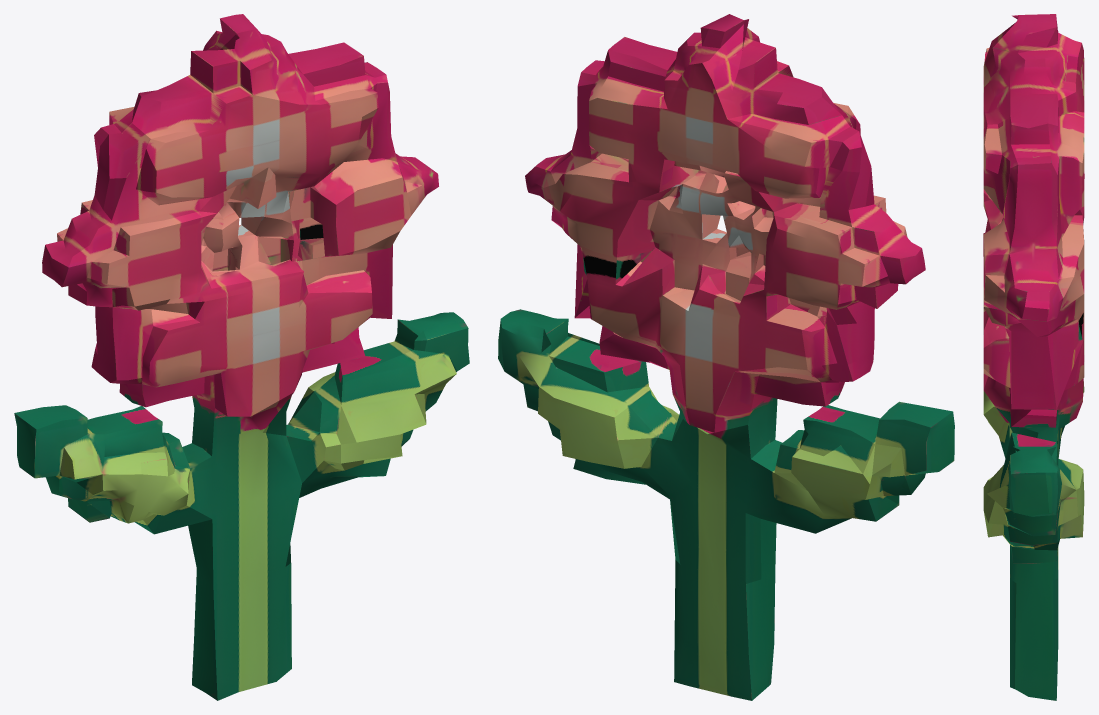
File: low poly flower new.glb
The picture shows the model from 3 angles, left to right: view 1: azimuth 30°, elevation 25°; view 2: azimuth 150°, elevation 25°; view 3: azimuth 270°, elevation 25°; orthographic projection.
Visible parts, largest first — view 1: Mesh0; view 2: Mesh0; view 3: Mesh0.
Part boxes in pixels (box(x1,y1,x2,y2)): Mesh0: box(14, 14, 469, 700); Mesh0: box(498, 14, 954, 700); Mesh0: box(983, 14, 1084, 700).
Bounding box in the file's own units: 1.39 × 2.01 × 0.277.
1 material, 1 textured.
